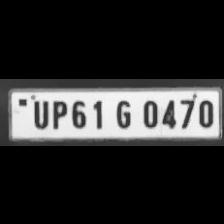0: (137, 95, 159, 127), (194, 95, 216, 127)
1: (88, 97, 108, 129)
4: (158, 96, 178, 128)
6: (68, 97, 88, 129)
7: (177, 96, 195, 128)
G: (111, 96, 135, 128)
P: (47, 97, 66, 128)
U: (28, 96, 50, 128)
